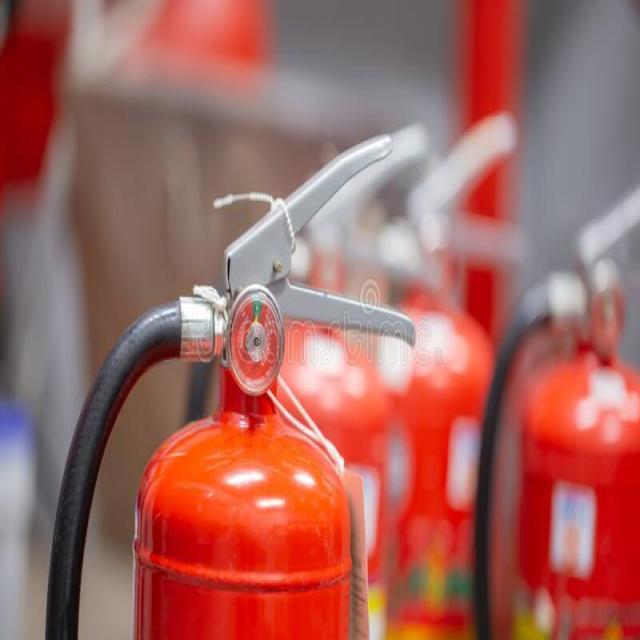fire_extinguisher: (39, 126, 418, 638)
